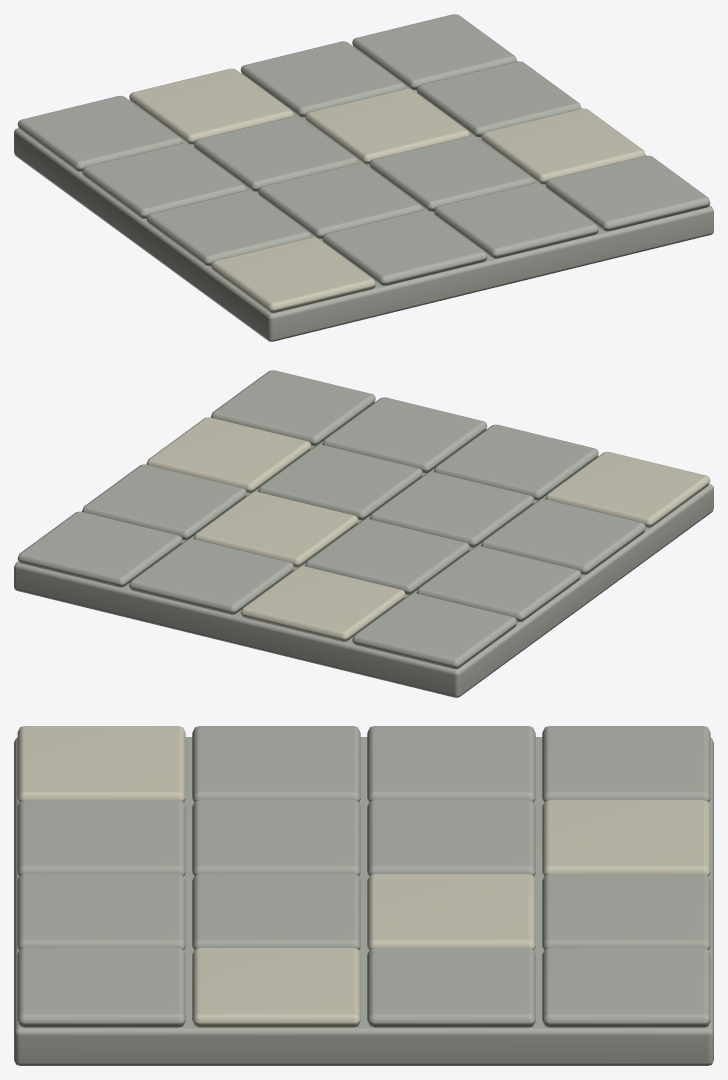
File: SM_Floor_Stone_4m.fbx
3 renders of one model, top to bottom at view 1: azimuth 30°, elevation 25°; view 2: azimuth 150°, elevation 25°; view 3: azimuth 270°, elevation 25°, orthographic. The views are drawn at different scales.
Parts seen in each view (by area): view 1: SM_Floor_Stone_4m; view 2: SM_Floor_Stone_4m; view 3: SM_Floor_Stone_4m.
Boxes of the visible parts, x1=… form: SM_Floor_Stone_4m: x1=14, y1=14, x2=713, y2=341; SM_Floor_Stone_4m: x1=14, y1=370, x2=713, y2=697; SM_Floor_Stone_4m: x1=14, y1=726, x2=713, y2=1065.
Size of the model in its own units: 4 by 0.32 by 4.
